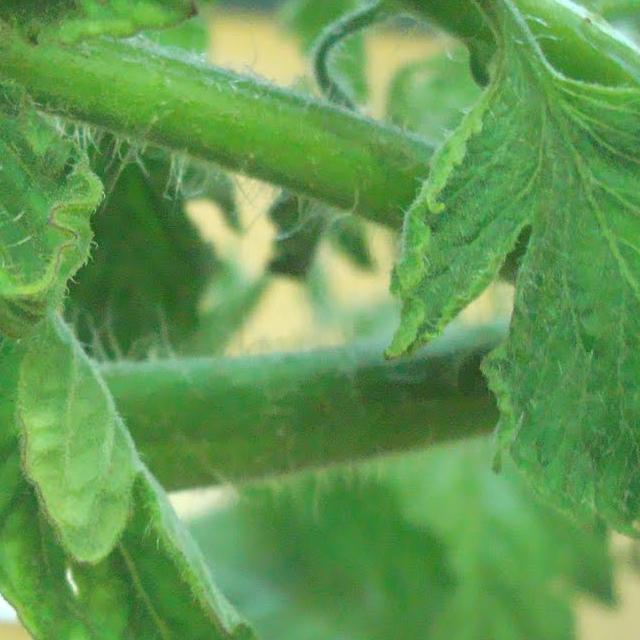Tomato leaf mosaic virus: (0, 0, 310, 640), (378, 55, 640, 640)
